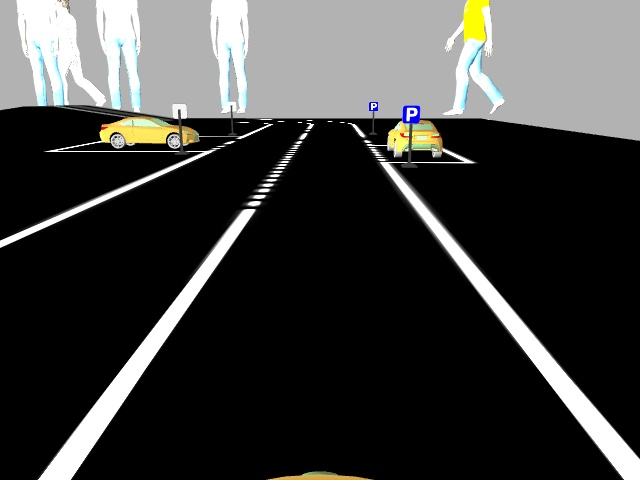Parking: (400, 104, 421, 124), (368, 99, 378, 112)
